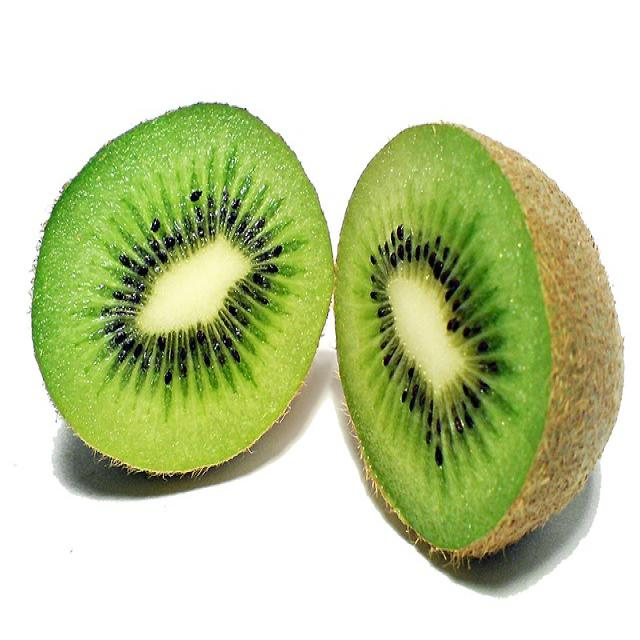organic: (333, 122, 623, 569), (29, 97, 334, 480)
